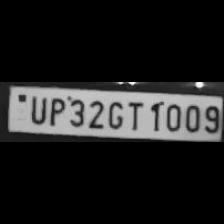0: (162, 101, 182, 133), (182, 101, 200, 133)
1: (146, 99, 162, 133)
2: (86, 96, 104, 130)
3: (65, 95, 84, 127)
9: (202, 102, 220, 136)
G: (104, 99, 124, 131)
P: (46, 96, 64, 127)
T: (125, 98, 144, 132)
U: (26, 93, 46, 125)
